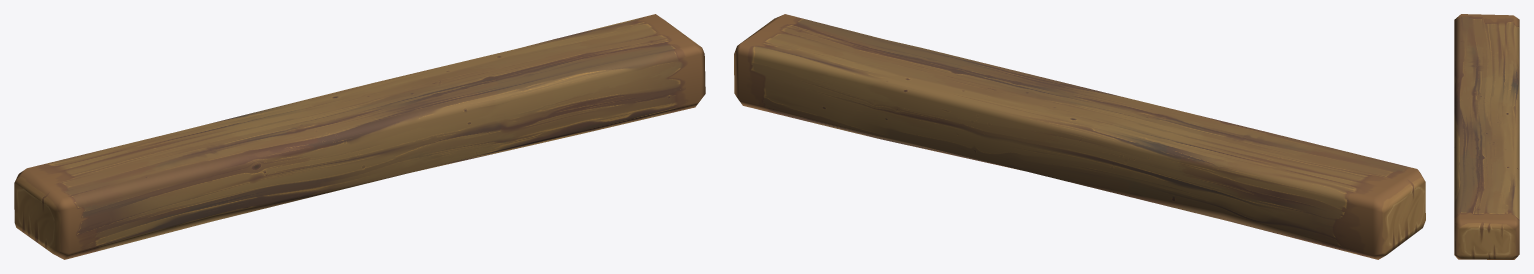
Rendered from SM_MOD_basic_beam_flat_town_01.fbx.
3 views of the same model, side by side, from view 1: azimuth 30°, elevation 25°; view 2: azimuth 150°, elevation 25°; view 3: azimuth 270°, elevation 25° (orthographic). The views are drawn at different scales.
Parts seen in each view (by area): view 1: SM_MOD_basic_beam_flat_town_01_LOD0; view 2: SM_MOD_basic_beam_flat_town_01_LOD0; view 3: SM_MOD_basic_beam_flat_town_01_LOD0.
Part boxes in pixels (x1=…): SM_MOD_basic_beam_flat_town_01_LOD0: x1=14, y1=14, x2=705, y2=259; SM_MOD_basic_beam_flat_town_01_LOD0: x1=734, y1=14, x2=1425, y2=259; SM_MOD_basic_beam_flat_town_01_LOD0: x1=1454, y1=14, x2=1519, y2=259.
Size of what is drawn, in the model's own units: 300 by 27.34 by 39.62.
